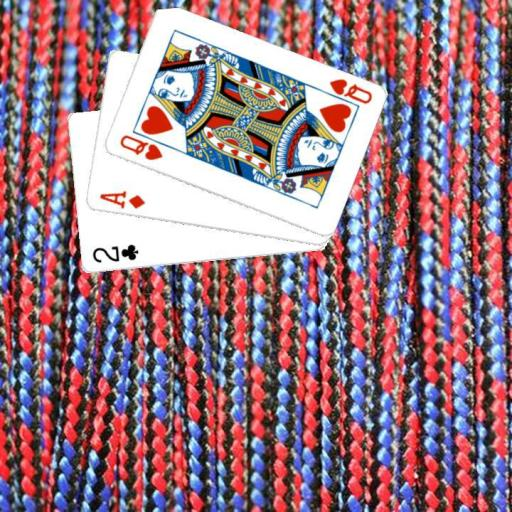2C: (89, 242, 139, 265)
AD: (96, 188, 146, 211)
QH: (316, 76, 373, 111), (116, 132, 163, 162)
